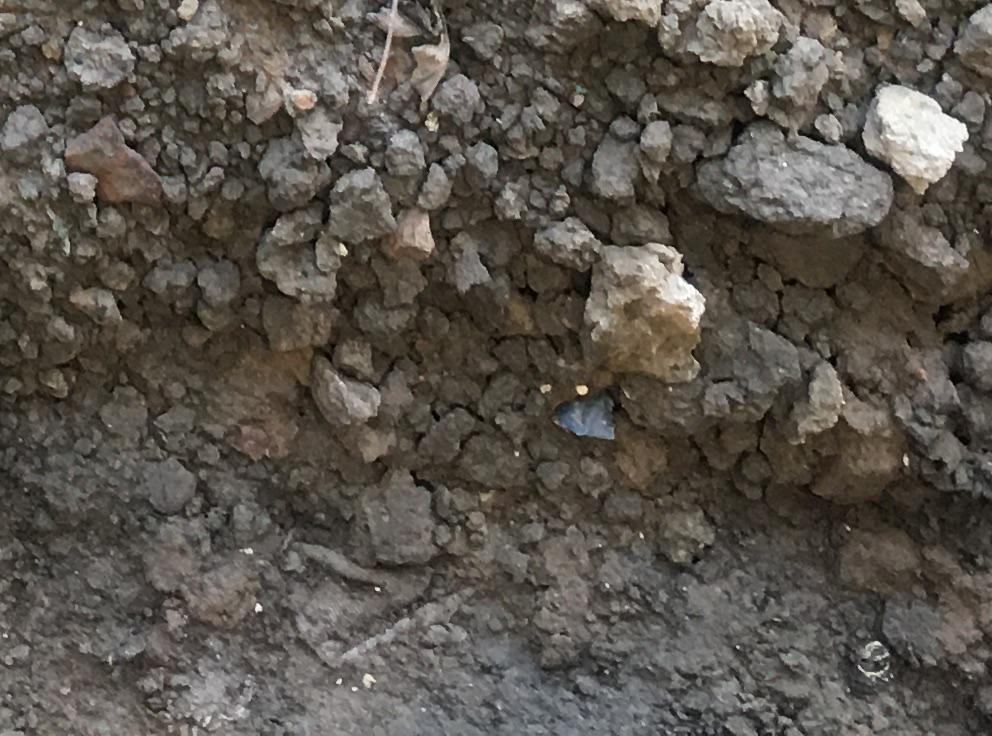block: (686, 114, 896, 245), (580, 239, 701, 380), (864, 78, 961, 198), (663, 2, 783, 77)
